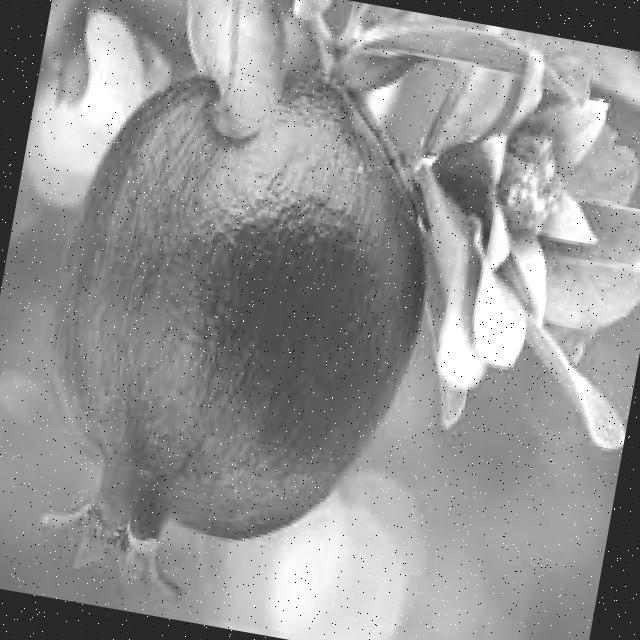Pomegranate: (6, 31, 460, 640)
